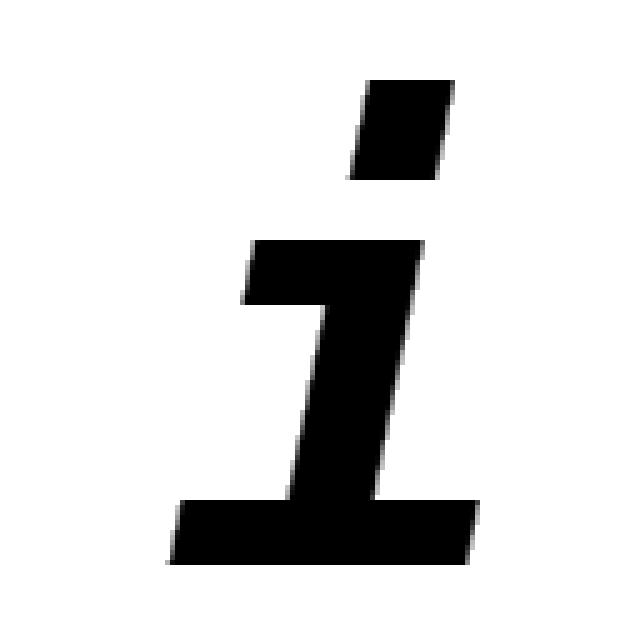I: (162, 79, 479, 565)
